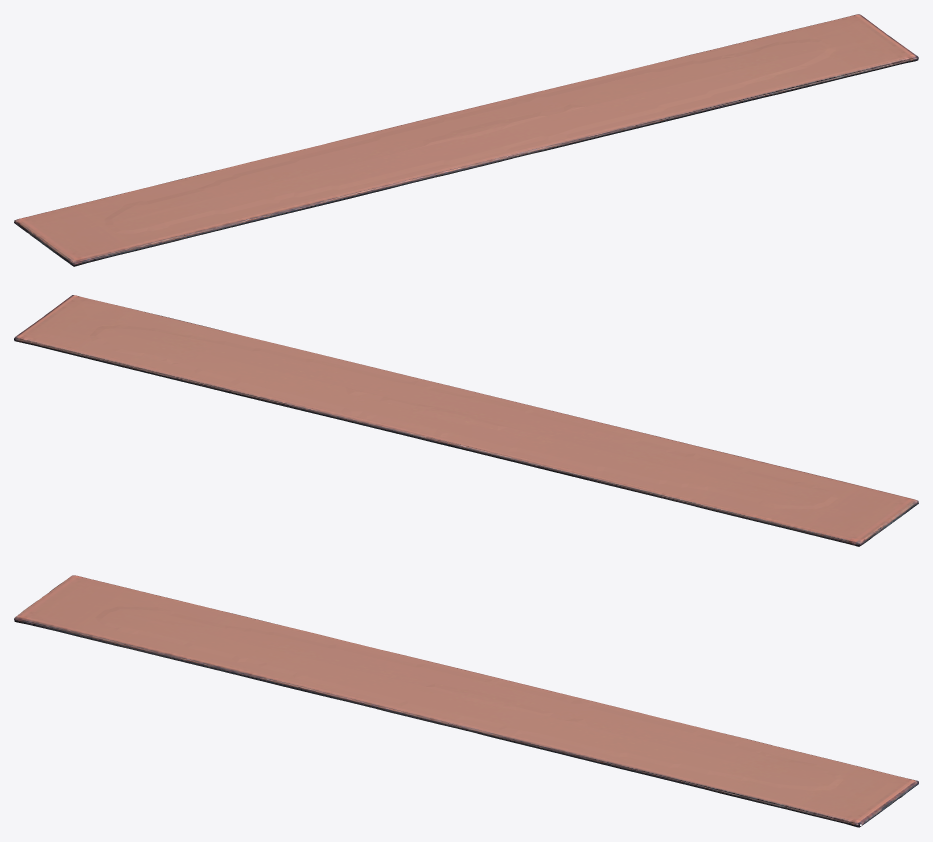
The picture shows the model from 3 angles, top to bottom: view 1: azimuth 30°, elevation 25°; view 2: azimuth 150°, elevation 25°; view 3: azimuth 330°, elevation 25°; orthographic projection.
Parts seen in each view (by area): view 1: world; view 2: world; view 3: world.
Part boxes in pixels (bbox=[...]): world: bbox=[14, 14, 918, 266]; world: bbox=[14, 295, 918, 546]; world: bbox=[14, 575, 918, 827].
Size of the model in its own units: 1 by 0.00771 by 0.1228.
Materials: 1 (1 with a texture image).
